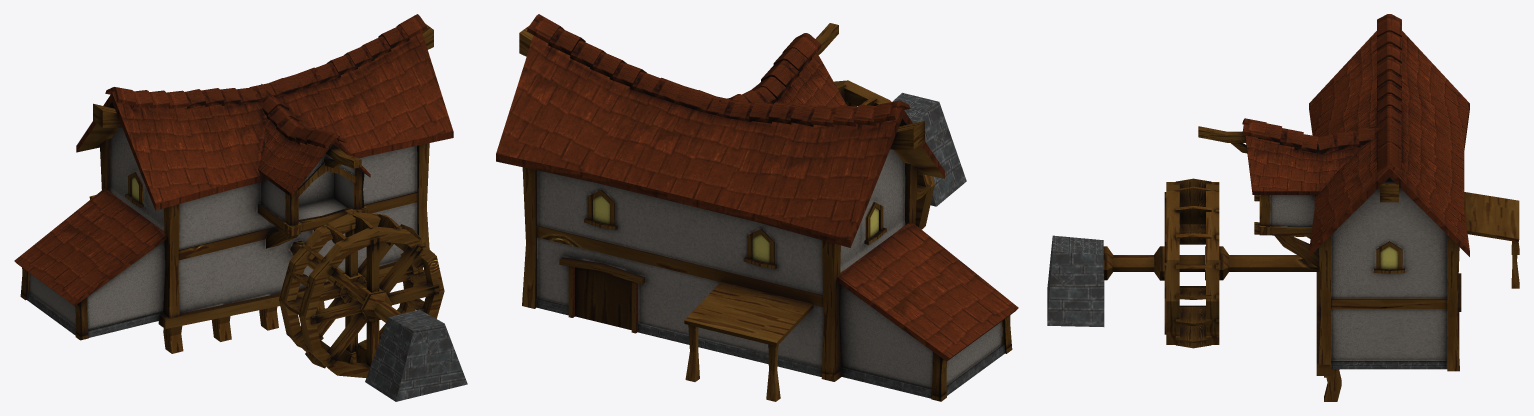
Rendered from watermill.obj.
3 renders of one model, left to right at view 1: azimuth 30°, elevation 25°; view 2: azimuth 150°, elevation 25°; view 3: azimuth 270°, elevation 25°, orthographic. The views are drawn at different scales.
Visible parts, largest first — view 1: watermill; view 2: watermill; view 3: watermill.
Part boxes in pixels (bbox=[...]): watermill: bbox=[14, 14, 467, 401]; watermill: bbox=[496, 14, 1018, 401]; watermill: bbox=[1047, 14, 1519, 401].
Size of the model in its own units: 26.75 by 16.51 by 28.
Materials: 1 (1 with a texture image).
